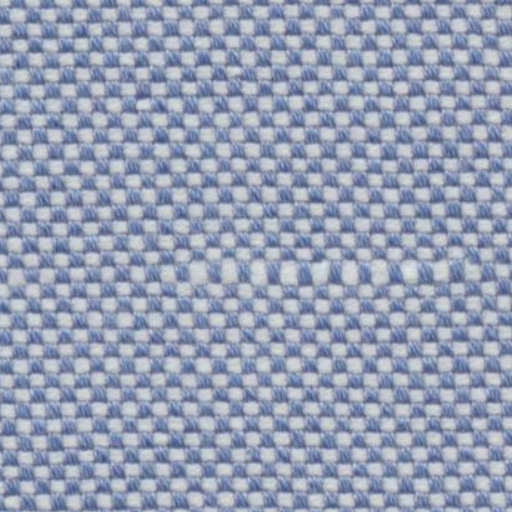DaiSha: (160, 240, 494, 296)
